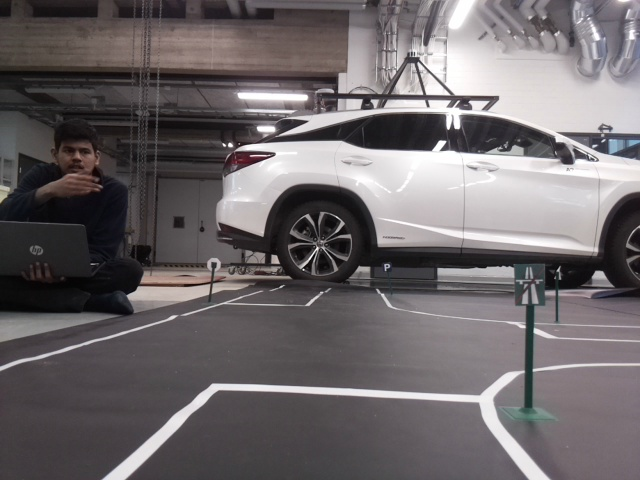HighwayExit: (514, 264, 543, 305)
